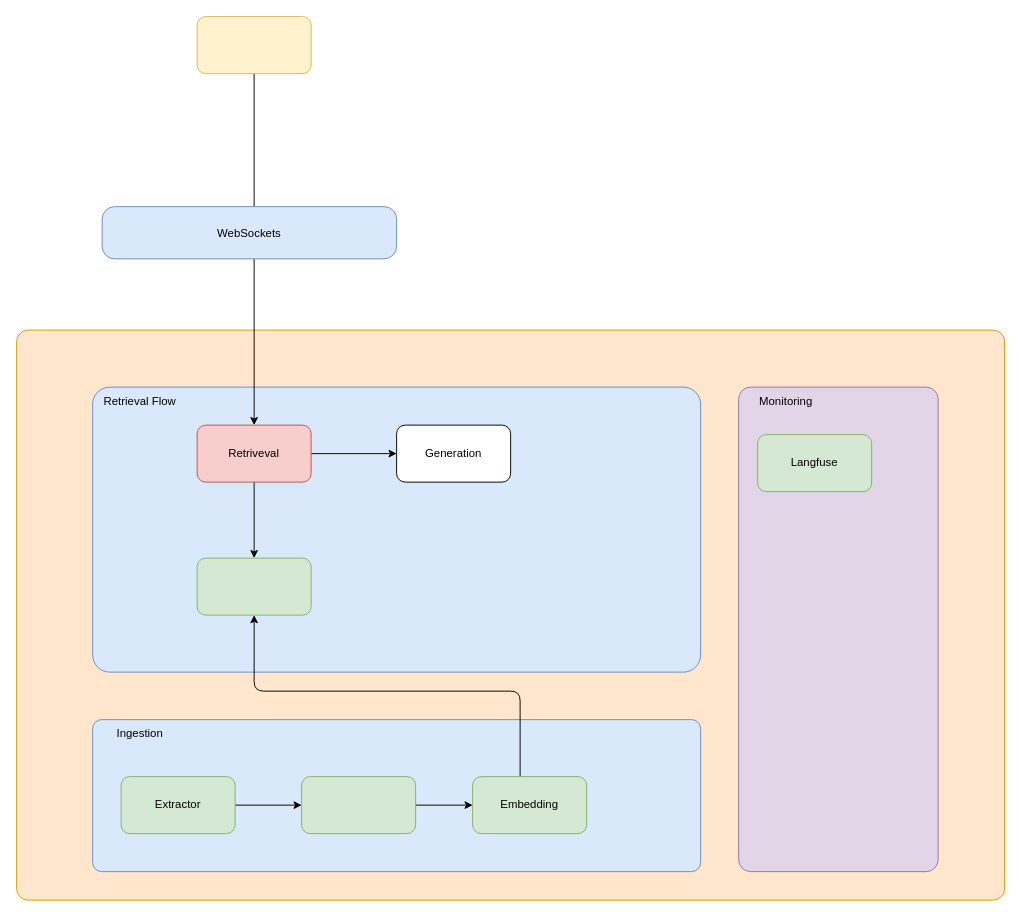
Some shapes in this 1021 by 917 pixel diagram are drawn without their labels. The centre of each missing label's shape, as x and y in pixels:
"Chunking" goes at (358,805).
"Knowledge Base" goes at (253,586).
"User" goes at (253,45).
